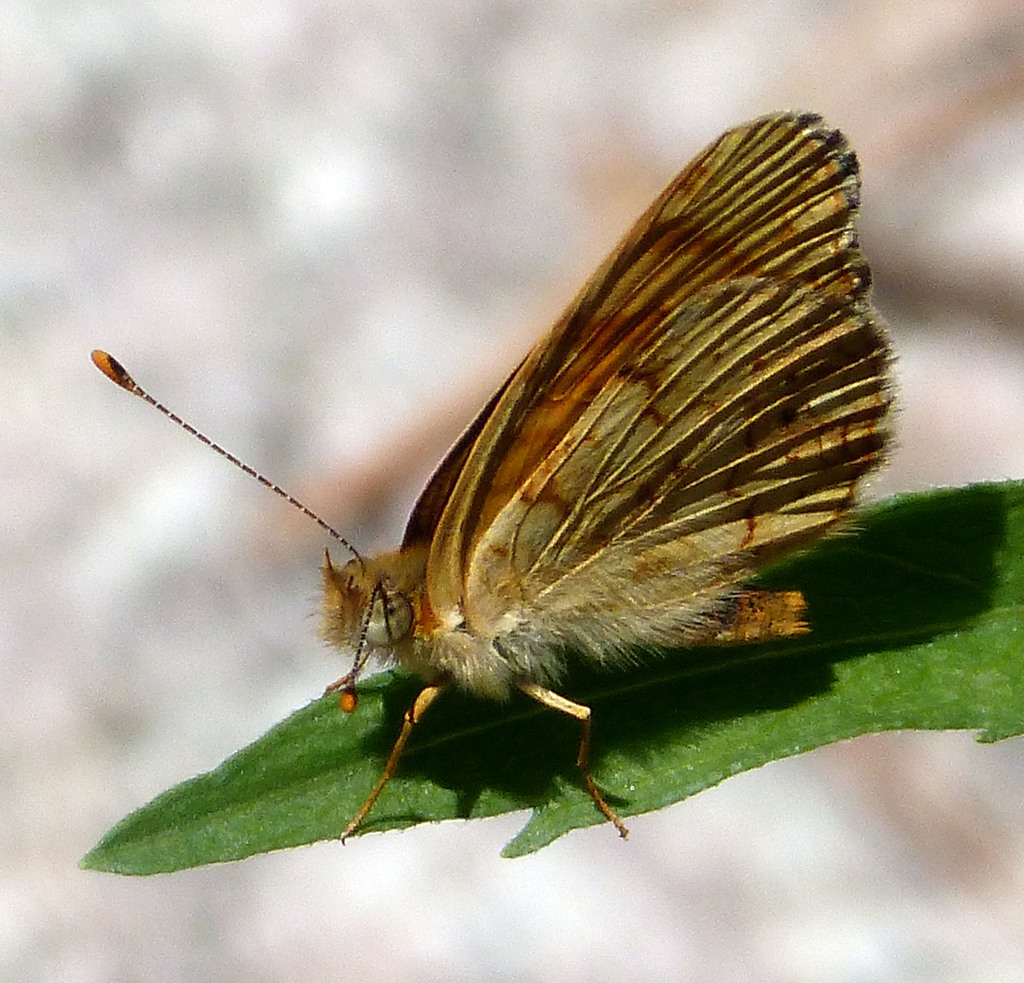Butterfly: (57, 123, 904, 849)
